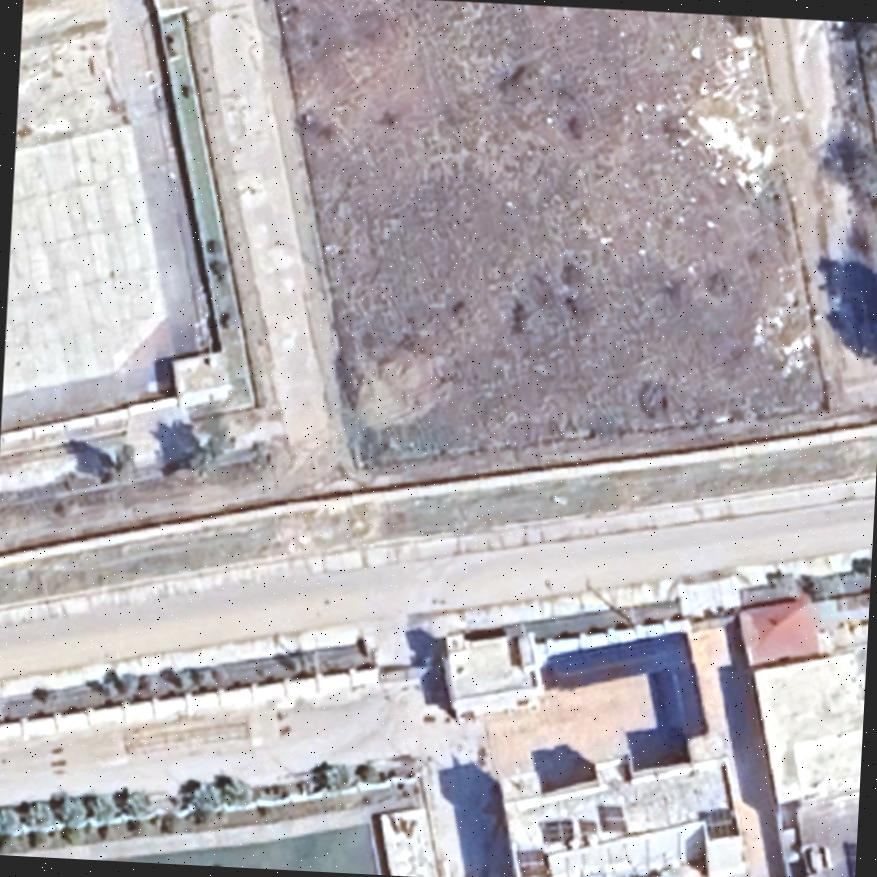Solarpanel: (695, 802, 742, 844), (533, 812, 578, 848), (510, 844, 554, 877), (591, 800, 630, 836)
